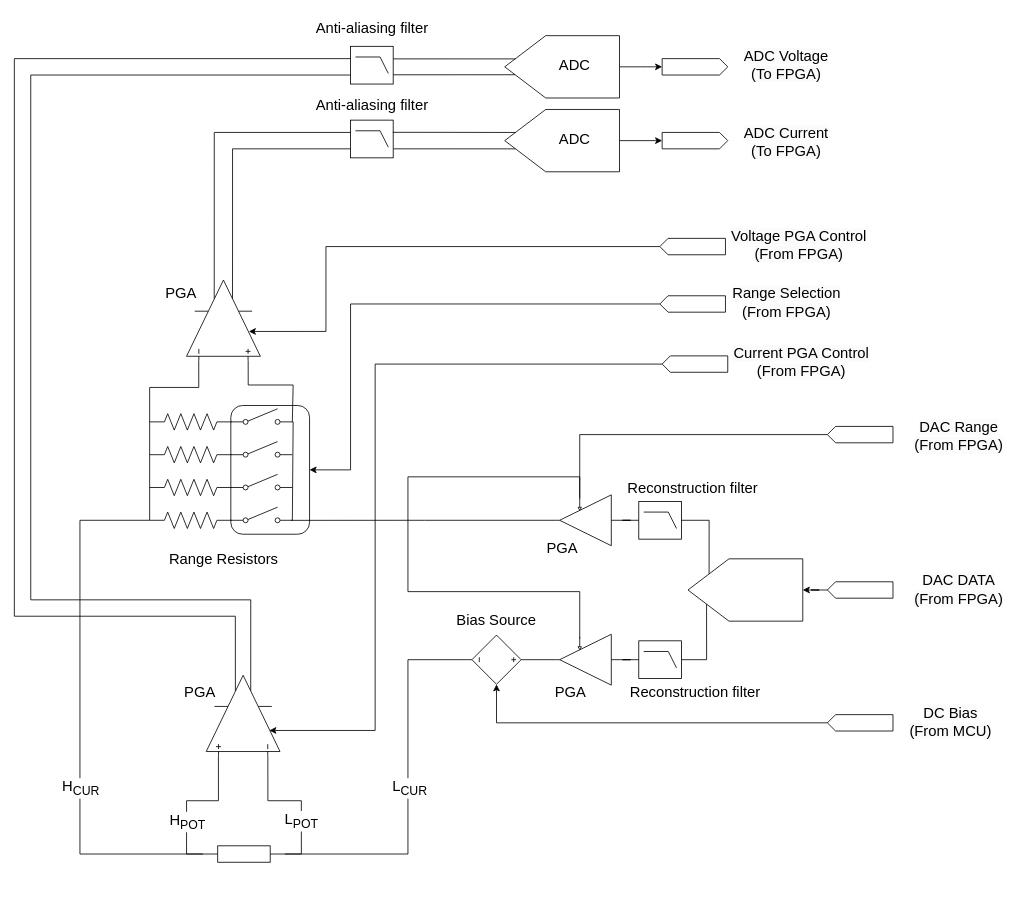
Image size: 1030x900. Some labels were removed from this diagram. Each missing label, with the centre of its shape:
"Differential DAC" belongs at pixel 745 589.
"DUT" belongs at pixel 243 853.
